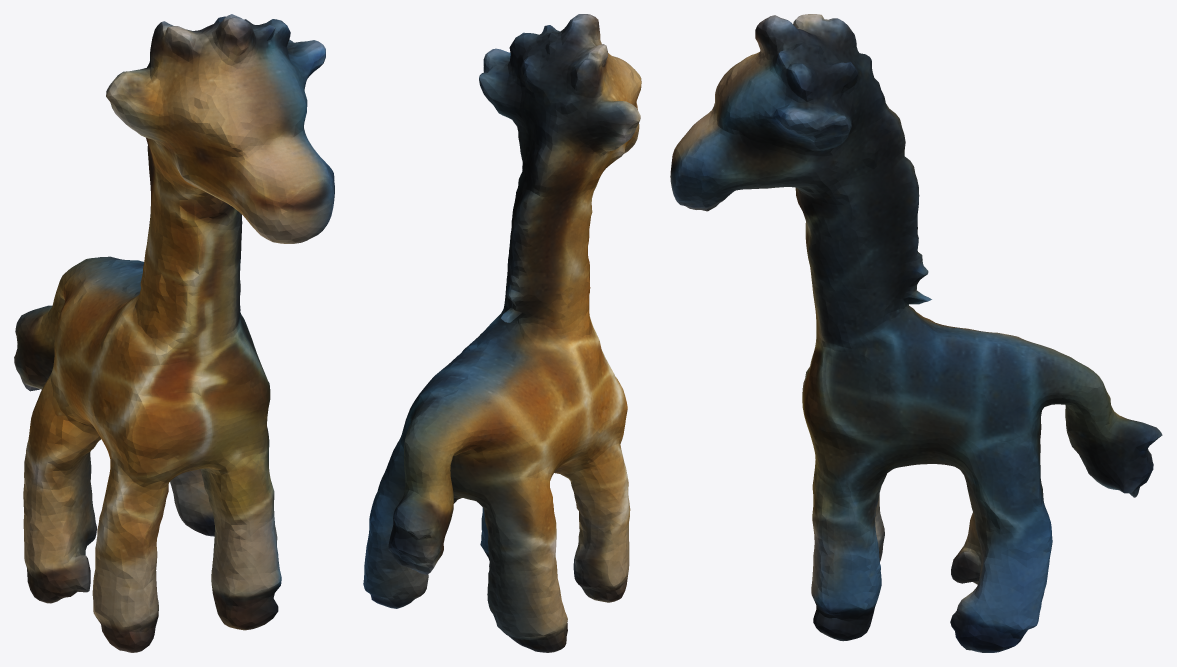
The model's file is giraffe1_rgba.glb.
3 views of the same model, side by side, from view 1: azimuth 30°, elevation 25°; view 2: azimuth 150°, elevation 25°; view 3: azimuth 270°, elevation 25° (orthographic). The views are drawn at different scales.
Size of the model in its own units: 0.3489 by 0.955 by 0.7122.
Materials: 1 (1 with a texture image).
